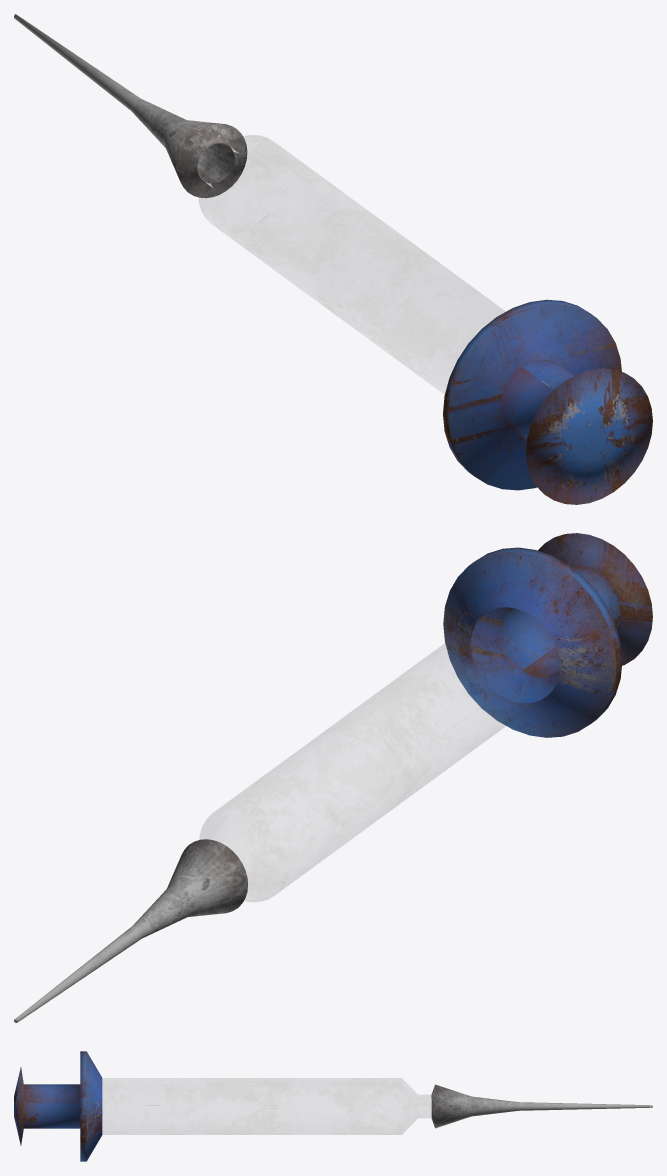
Rendered from needle.glb.
3 renders of one model, top to bottom at view 1: azimuth 30°, elevation 25°; view 2: azimuth 150°, elevation 25°; view 3: azimuth 270°, elevation 25°, orthographic. The views are drawn at different scales.
Parts seen in each view (by area): view 1: Cylinder; view 2: Cylinder; view 3: Cylinder.
Boxes of the visible parts, x1,y1,x2,y2 form: Cylinder: (14,14,652,504); Cylinder: (14,533,652,1022); Cylinder: (14,1051,652,1161).
Bounding box in the file's own units: 0.0912 × 0.0912 × 0.5292.
1 material, 1 textured.
